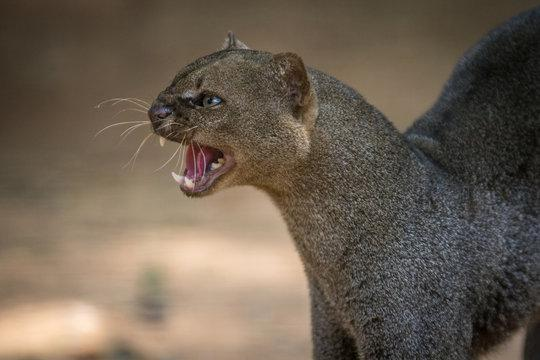Jaguarundi: (131, 25, 528, 351)
